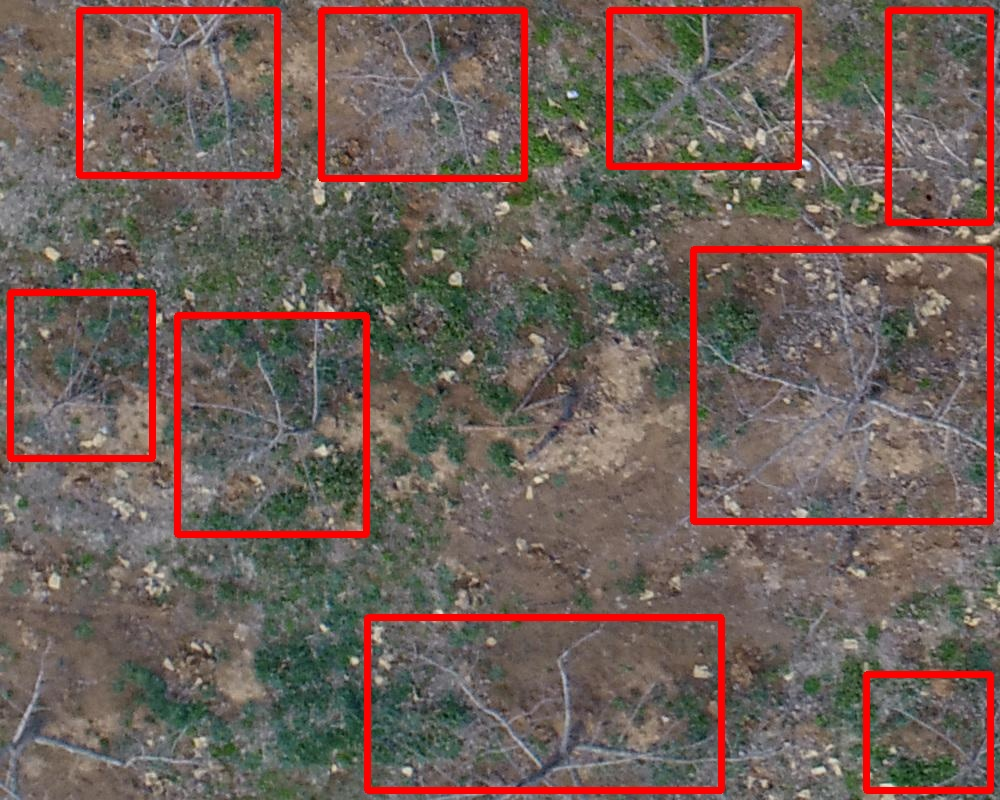apple: (693, 249, 990, 521), (367, 617, 721, 790), (177, 315, 366, 534), (321, 10, 524, 178), (79, 10, 277, 175), (609, 10, 798, 166), (10, 292, 152, 458), (888, 10, 990, 222), (866, 674, 990, 790)
